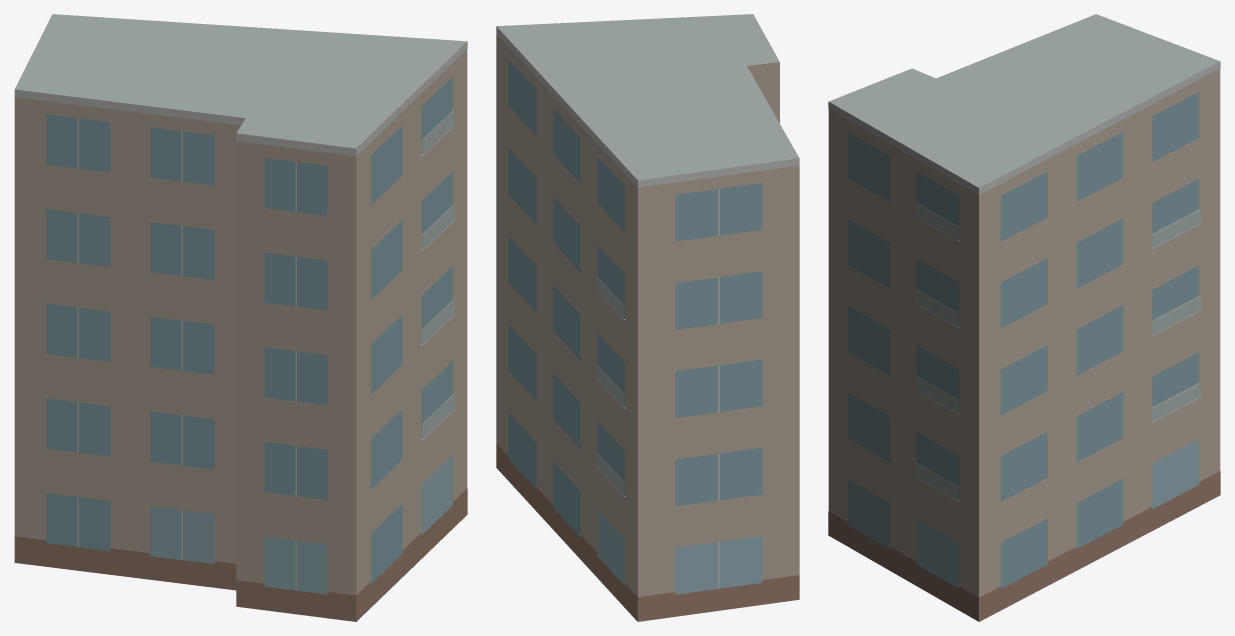
The model's file is survey-upis-32495196.glb.
3 renders of one model, left to right at view 1: azimuth 30°, elevation 25°; view 2: azimuth 150°, elevation 25°; view 3: azimuth 270°, elevation 25°, orthographic. The views are drawn at different scales.
Parts seen in each view (by area): view 1: survey-upis-32495196.tmp; view 2: survey-upis-32495196.tmp; view 3: survey-upis-32495196.tmp.
Part boxes in pixels (x1=…): survey-upis-32495196.tmp: x1=14, y1=14, x2=467, y2=621; survey-upis-32495196.tmp: x1=496, y1=14, x2=799, y2=621; survey-upis-32495196.tmp: x1=828, y1=14, x2=1220, y2=621.
Bounding box in the file's own units: 12.82 × 14.9 × 12.21.
